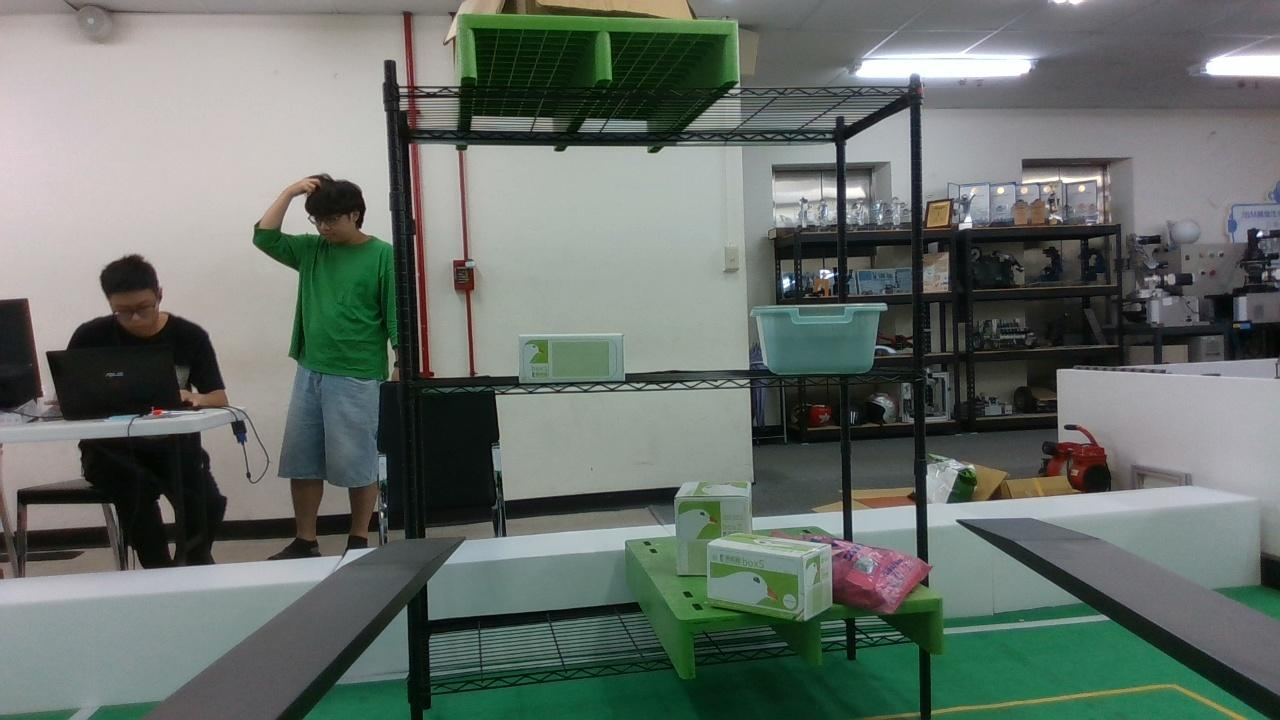Pallet: (681, 597, 944, 677), (458, 13, 741, 81)
